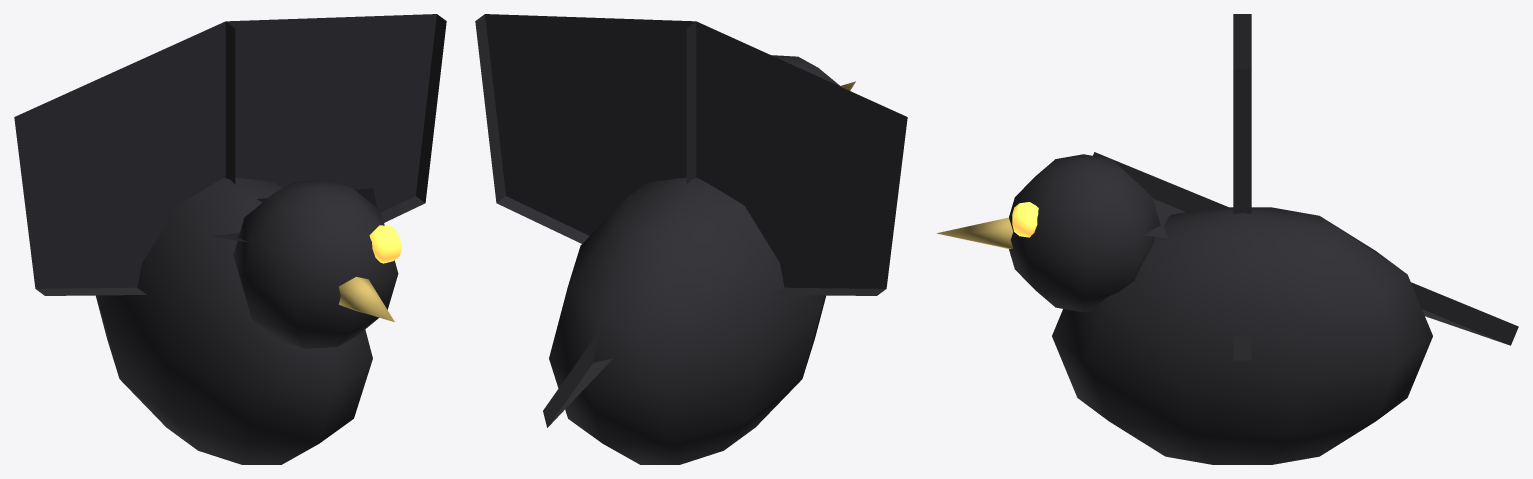
Rendered from raven_perched.glb.
3 views of the same model, side by side, from view 1: azimuth 30°, elevation 25°; view 2: azimuth 150°, elevation 25°; view 3: azimuth 270°, elevation 25° (orthographic). The views are drawn at different scales.
Visible parts, largest first — view 1: GD_raven_perched__m0, GD_raven_perched__m1, GD_raven_perched__m2; view 2: GD_raven_perched__m0; view 3: GD_raven_perched__m0, GD_raven_perched__m1, GD_raven_perched__m2.
Boxes of the visible parts, left/top/right/bottom form: GD_raven_perched__m0: left=14, top=14, right=446, bottom=464; GD_raven_perched__m1: left=339, top=277, right=394, bottom=322; GD_raven_perched__m2: left=369, top=225, right=402, bottom=263; GD_raven_perched__m0: left=475, top=14, right=907, bottom=464; GD_raven_perched__m0: left=1009, top=14, right=1518, bottom=464; GD_raven_perched__m1: left=937, top=217, right=1013, bottom=248; GD_raven_perched__m2: left=1012, top=202, right=1038, bottom=237.
Size of the model in its own units: 0.2 by 0.19 by 0.2568.
